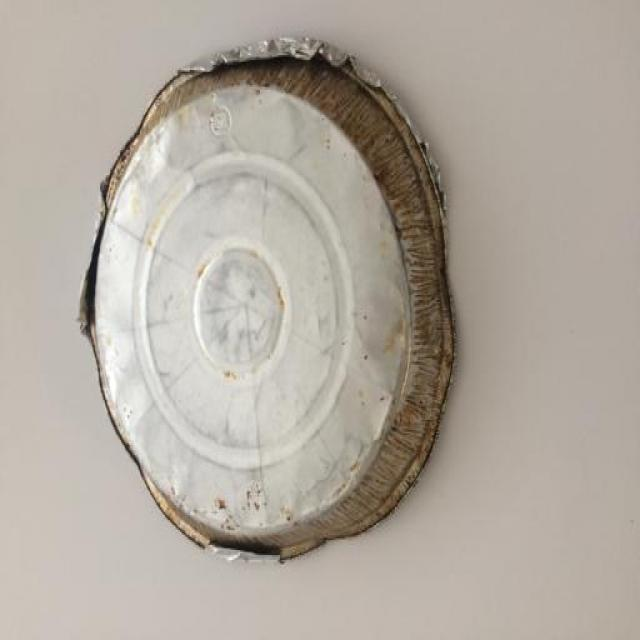metel: (97, 71, 445, 534)
